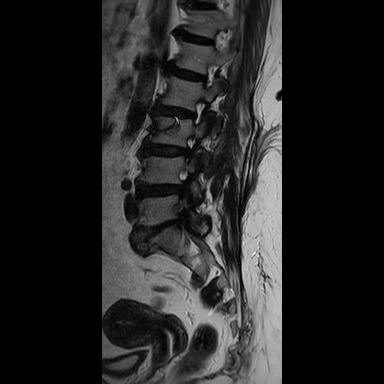LFS0: (186, 93, 211, 130), (196, 57, 220, 93)
